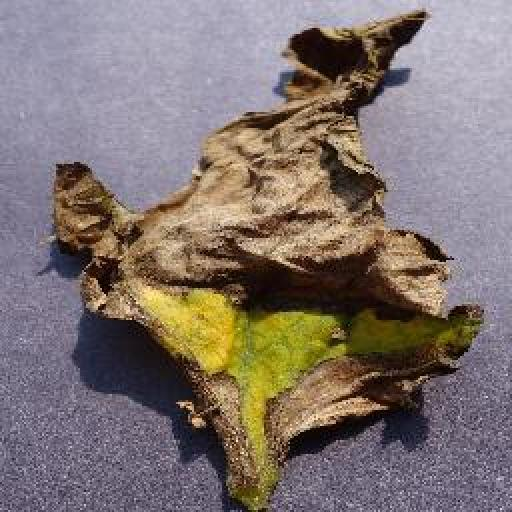Late Blight: (46, 10, 482, 512)
